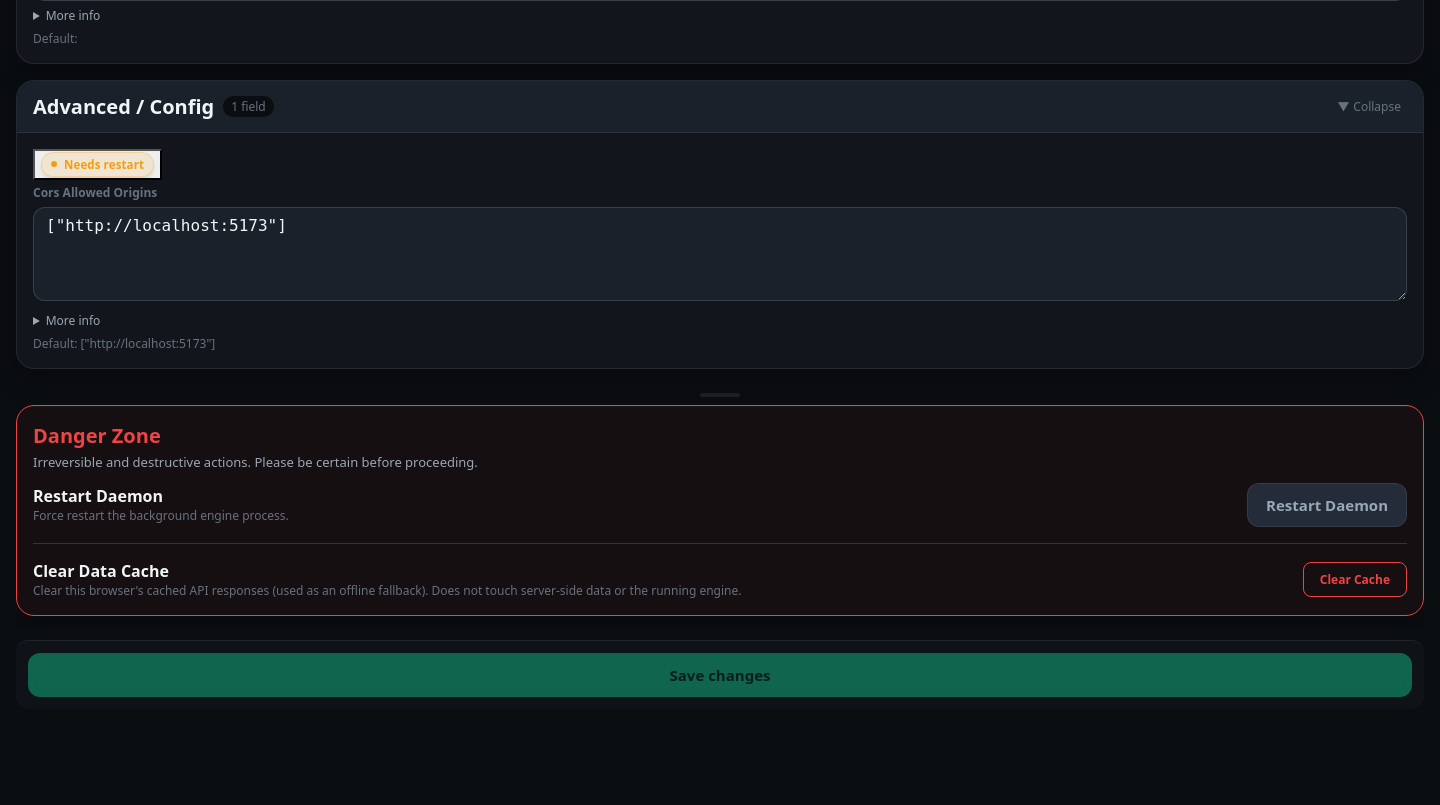
Test: SettingsManager screen › Danger Zone — Clear Data Cache › confirming actually empties the offline-response cache and reports how many entries were cleared
The width and height of the screenshot is (1440, 805).
(page scrolled)
Click the button with test id "clear-cache-button": click(1355, 579) [1303,562,1407,597]
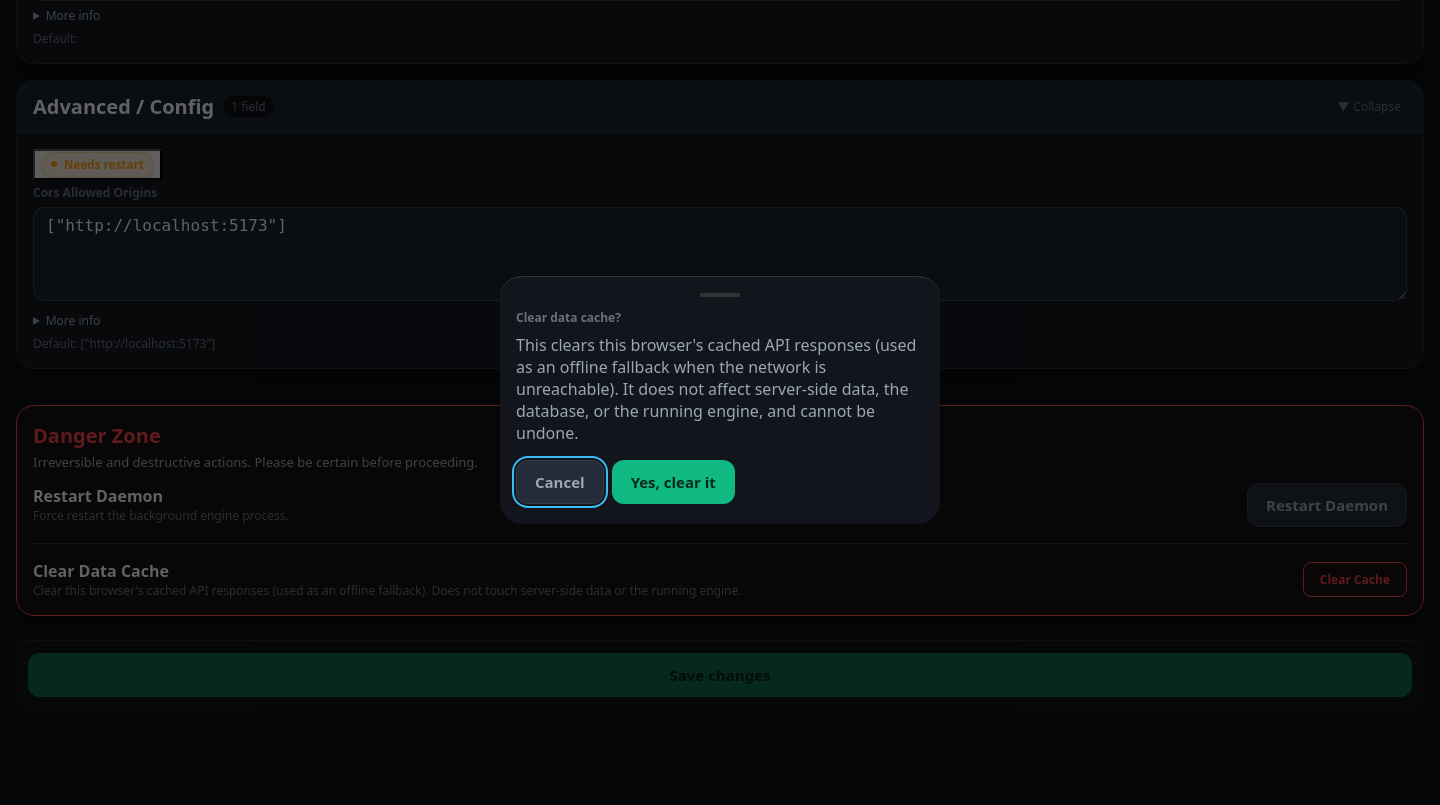
expect the element with test id "clear-cache-confirm" is shown: met, box [516,309,924,504]
Click the button with test id "clear-cache-confirm-yes": click(673, 482) [612,460,735,504]
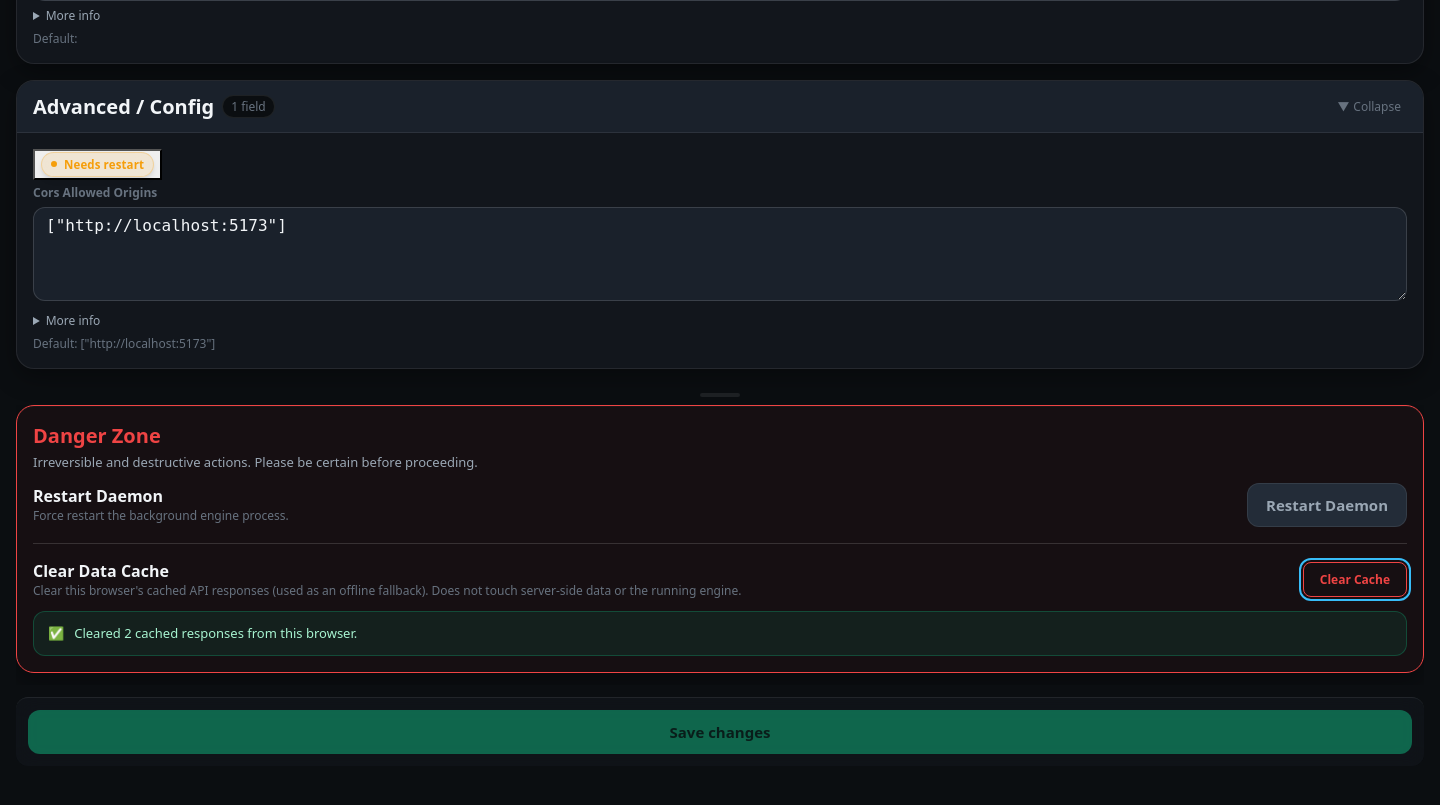
expect the message with test id "cache-cleared-notice" shows "Cleared 2 cached responses from this browser.": met, box [74,624,357,642]
expect the element with test id "clear-cache-confirm" is gone: met
